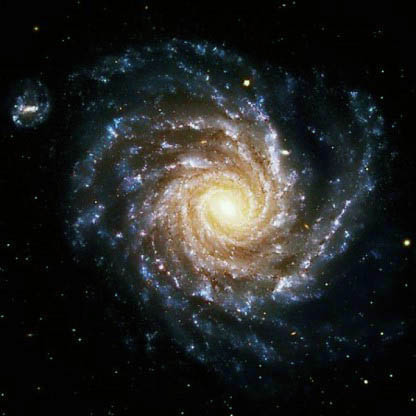NGC 1232: (14, 32, 389, 377)
